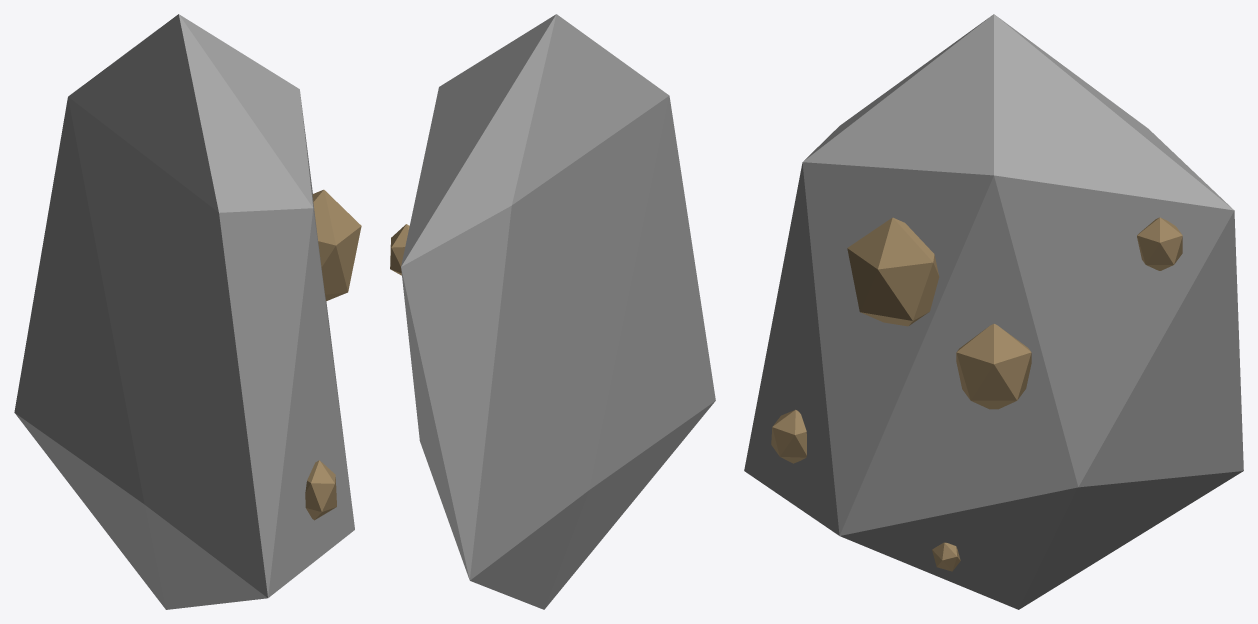
Rendered from ironOre.fbx.
3 views of the same model, side by side, from view 1: azimuth 30°, elevation 25°; view 2: azimuth 150°, elevation 25°; view 3: azimuth 270°, elevation 25° (orthographic). The views are drawn at different scales.
Parts seen in each view (by area): view 1: Icosphere; view 2: Icosphere; view 3: Icosphere.
Boxes of the visible parts, <box> form: Icosphere: <box>14,14,361,609</box>; Icosphere: <box>390,14,715,609</box>; Icosphere: <box>744,14,1243,609</box>.
Size of the model in its own units: 0.6739 by 2.24 by 1.7.
